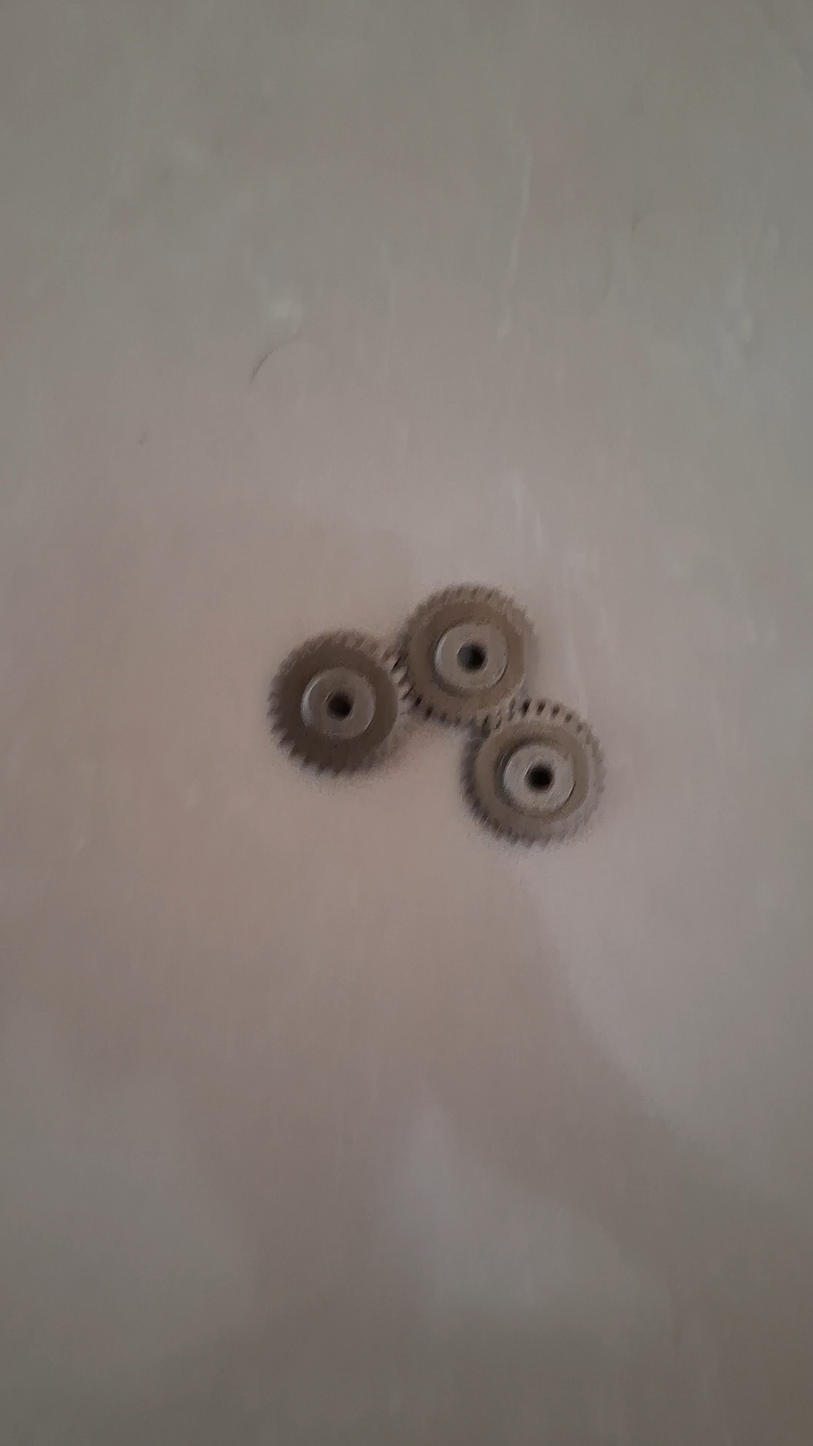spur gear: (464, 698, 603, 843), (269, 632, 410, 773), (400, 586, 530, 723)
